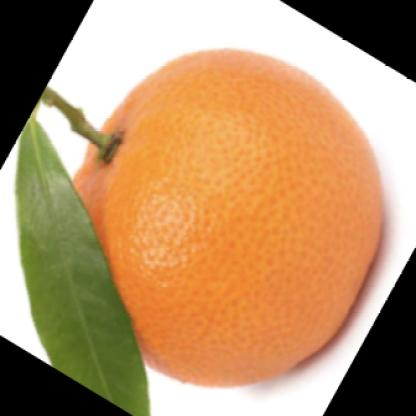fresh: (57, 48, 384, 391)
